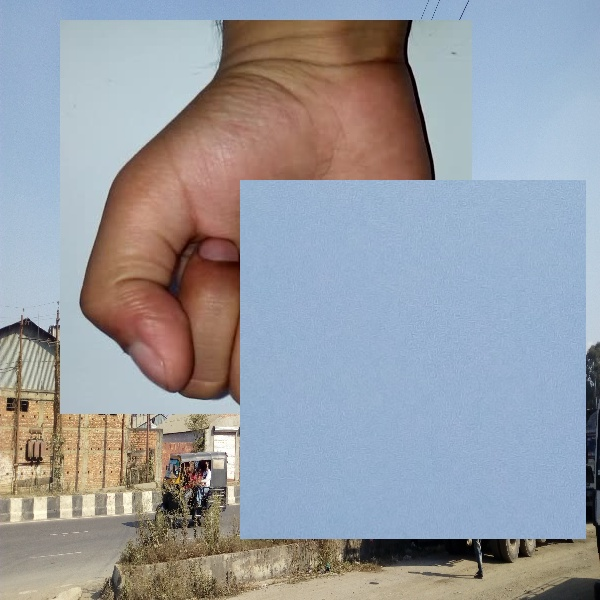A: (240, 180, 586, 539)
